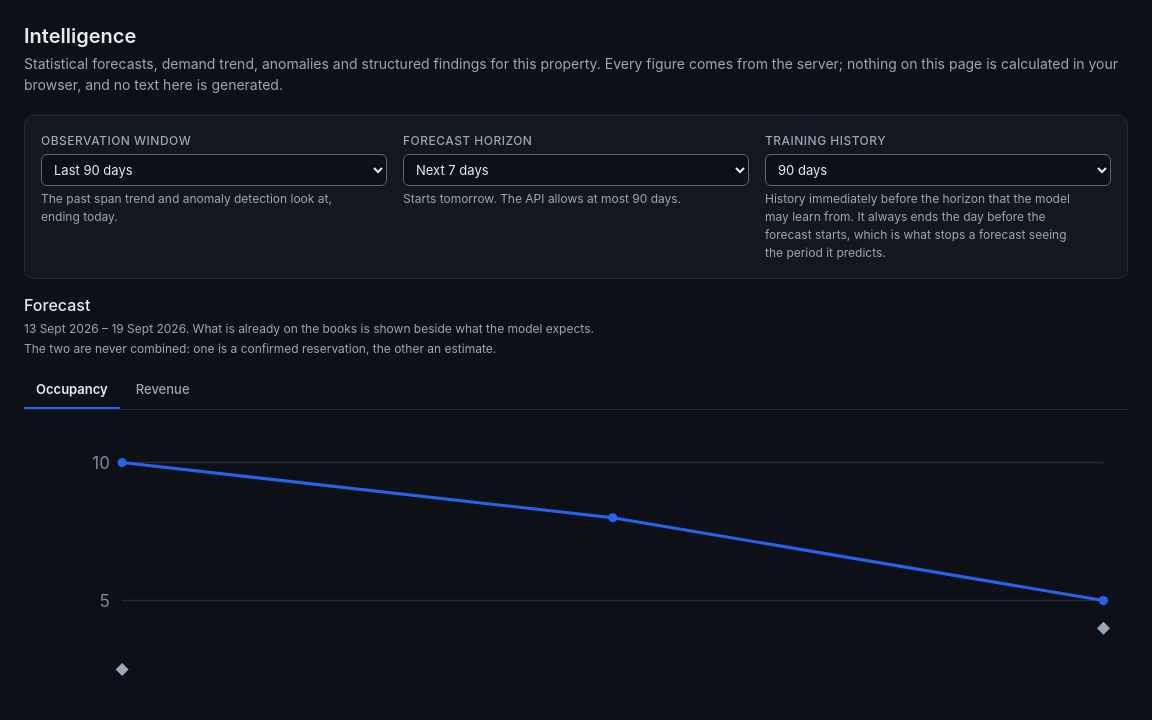
Scenario: the forecast › keeps currencies apart and never converts one into another
The width and height of the screenshot is (1152, 720).
What coordinates should you click on to do the following:
click the tab "Revenue"
I would click on:
 (163, 391)
Its box is [124, 372, 202, 409].
(page scrolled)
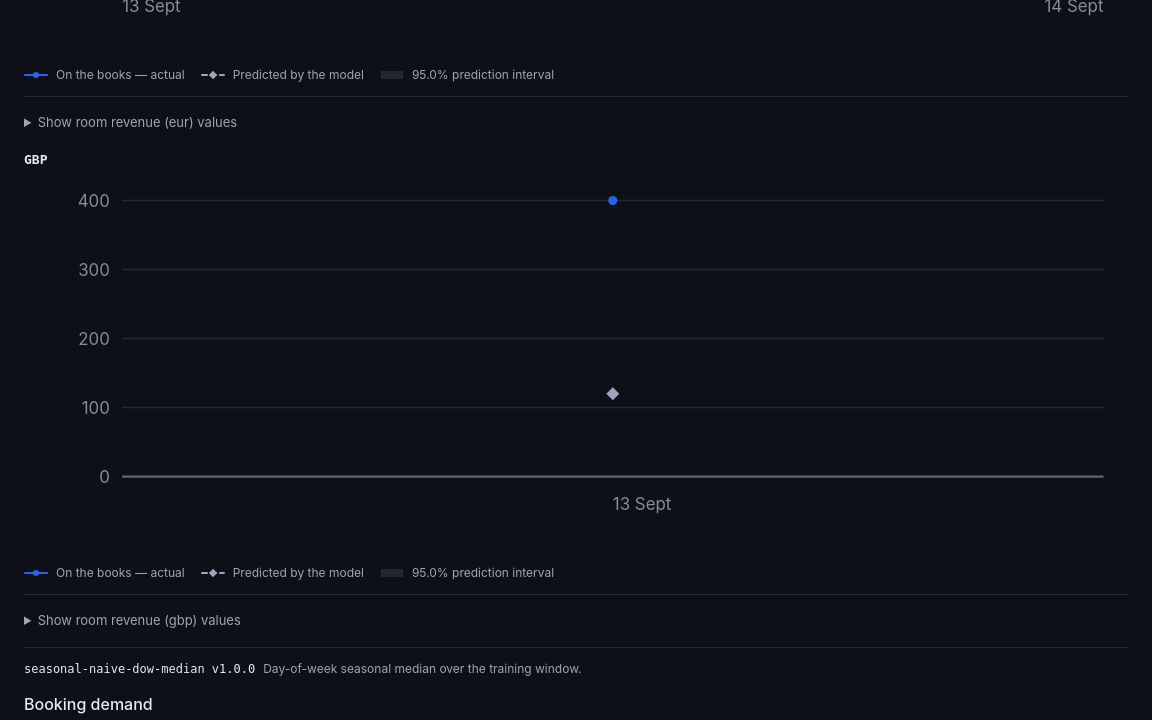
Result: the heading "GBP" is shown at [24, 152, 48, 167]
Result: the picture named "Room revenue (GBP) forecast" is shown at [24, 176, 1128, 544]
